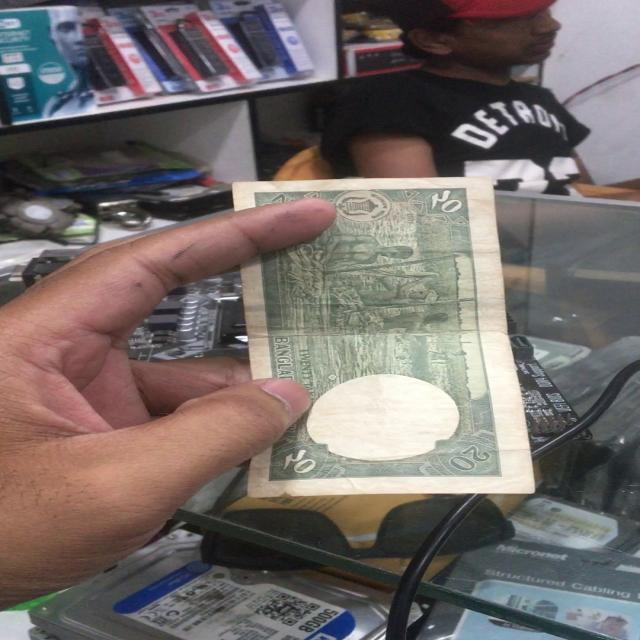Taka: (238, 182, 535, 493)
